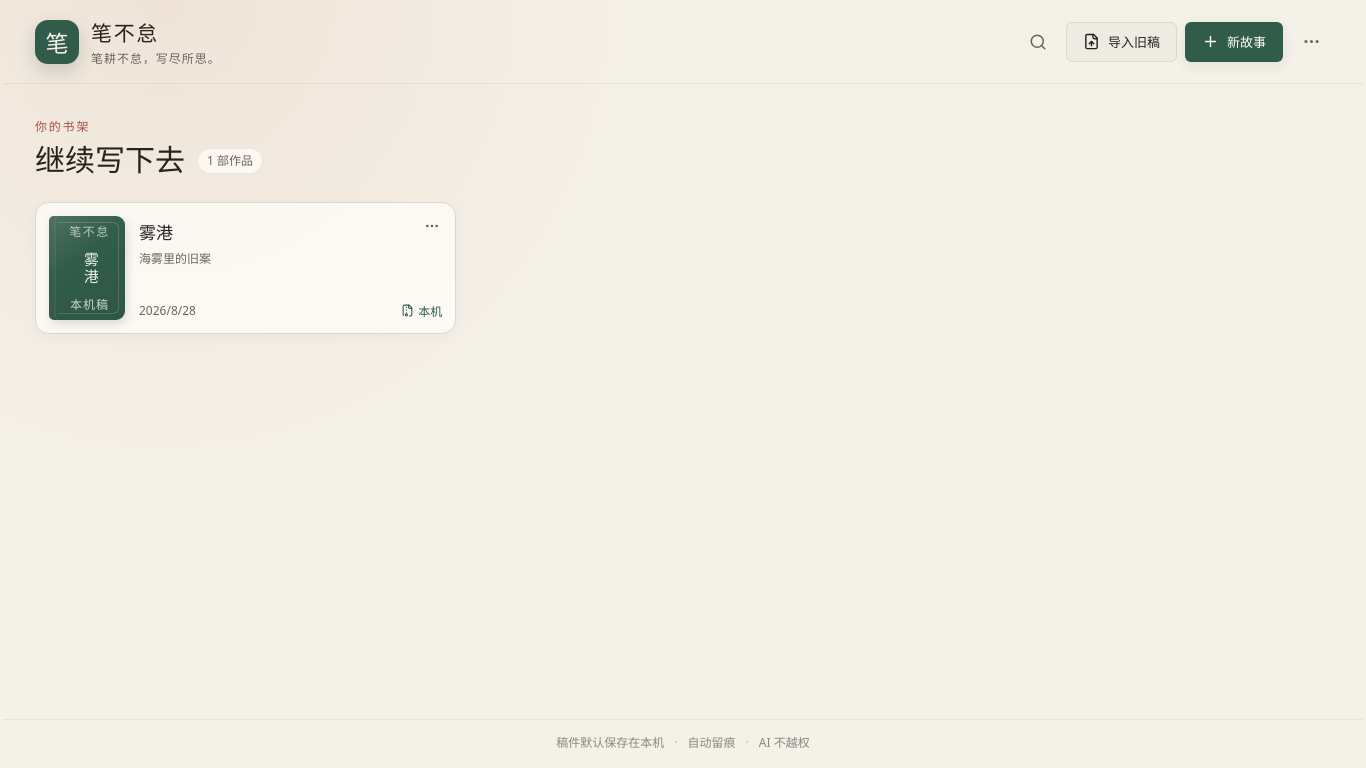
Bookshelf shell › opens an informative project trash center and filters duplicate-looking work
This screenshot has width=1366, height=768.
Click the button named "书架更多操作".
click(1311, 42)  # box [1291,22,1331,62]
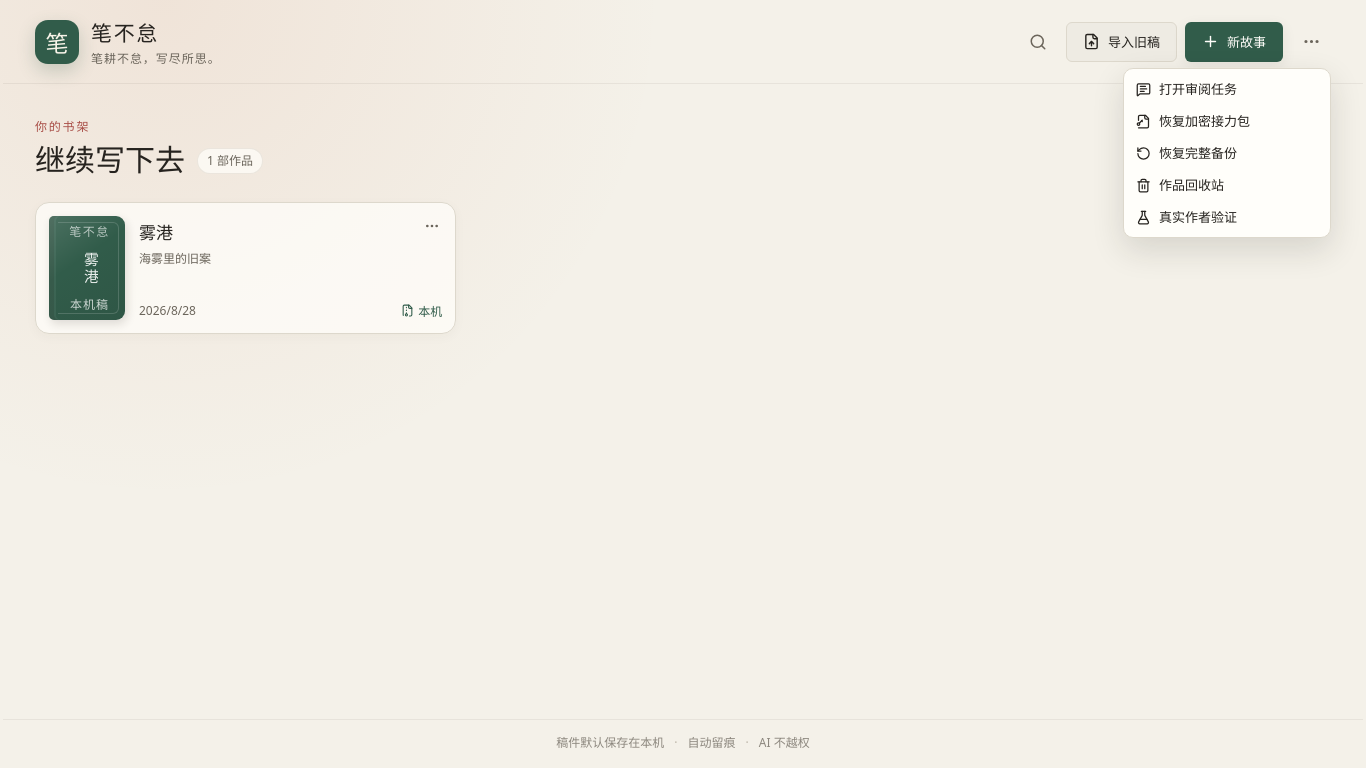
Click the menu item "作品回收站".
click(1180, 185)  # box [1136,176,1224,194]
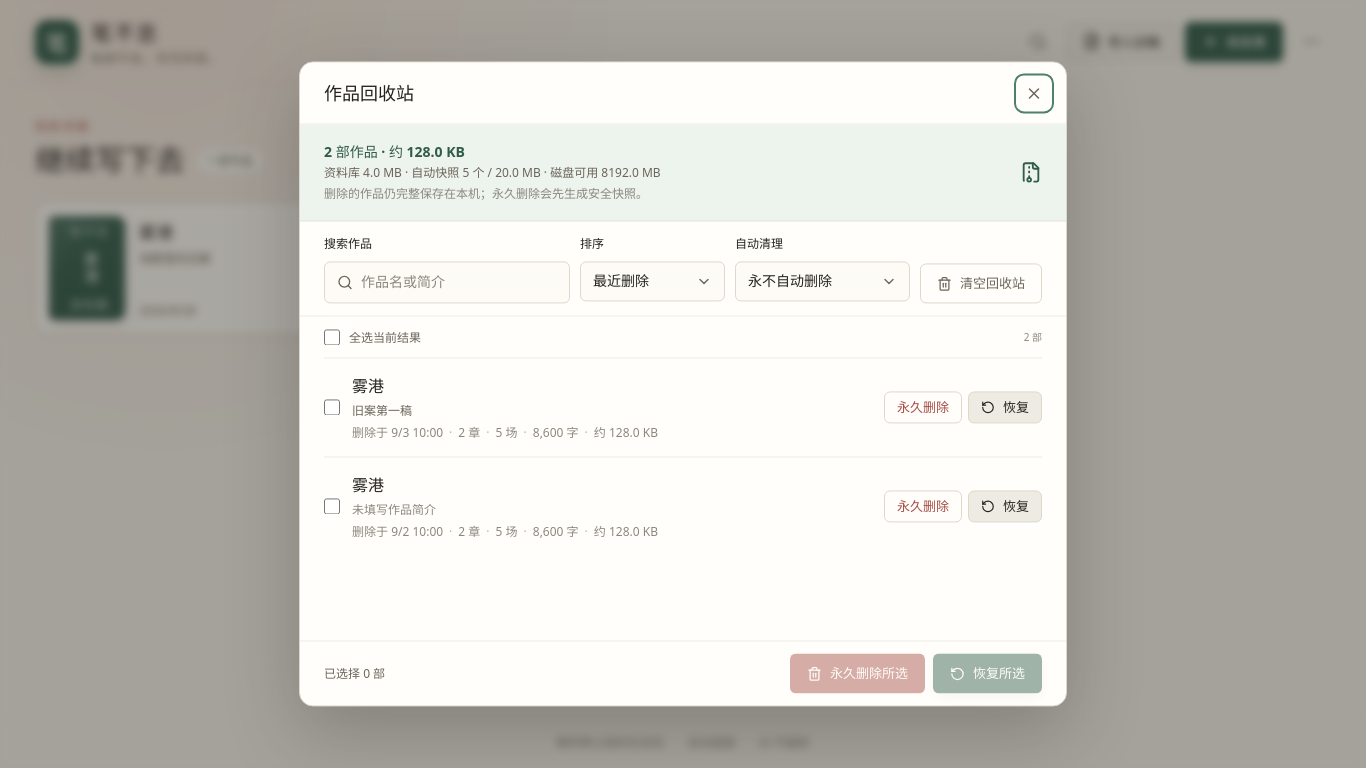
Check: the dialog "作品回收站" is shown, box [299,61,1067,706]
Check: the text "2 部作品 · 约 128.0 KB" is shown, box [324,142,465,161]
Check: the text "2 章" is shown 2 times, box [443,423,480,441]; [443,522,480,540]
Type "第一稿" into the search field labelled "搜索作品".
click(461, 282); type("第一稿")  # box [361,262,561,302]
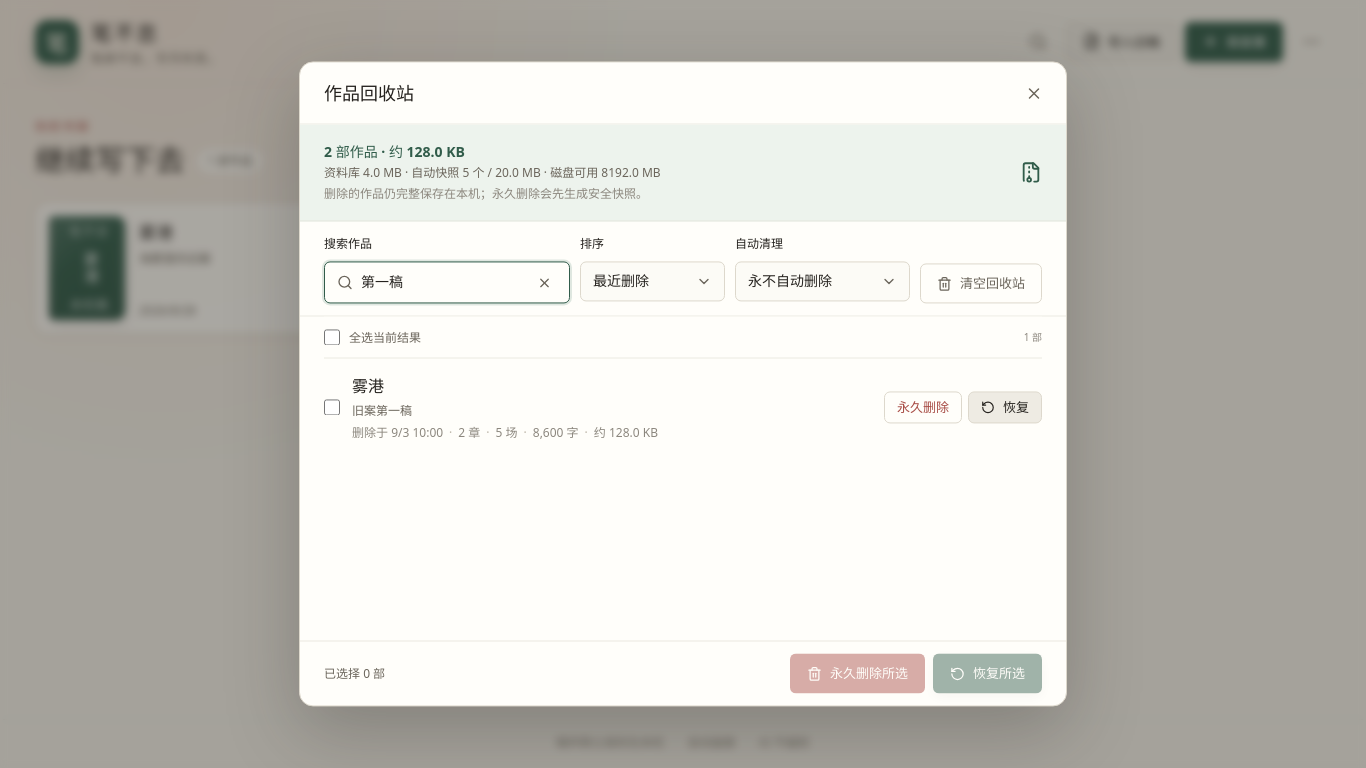
Check: the text "旧案第一稿" is shown, box [352,402,412,419]
Check: the text "未填写作品简介" is gone
